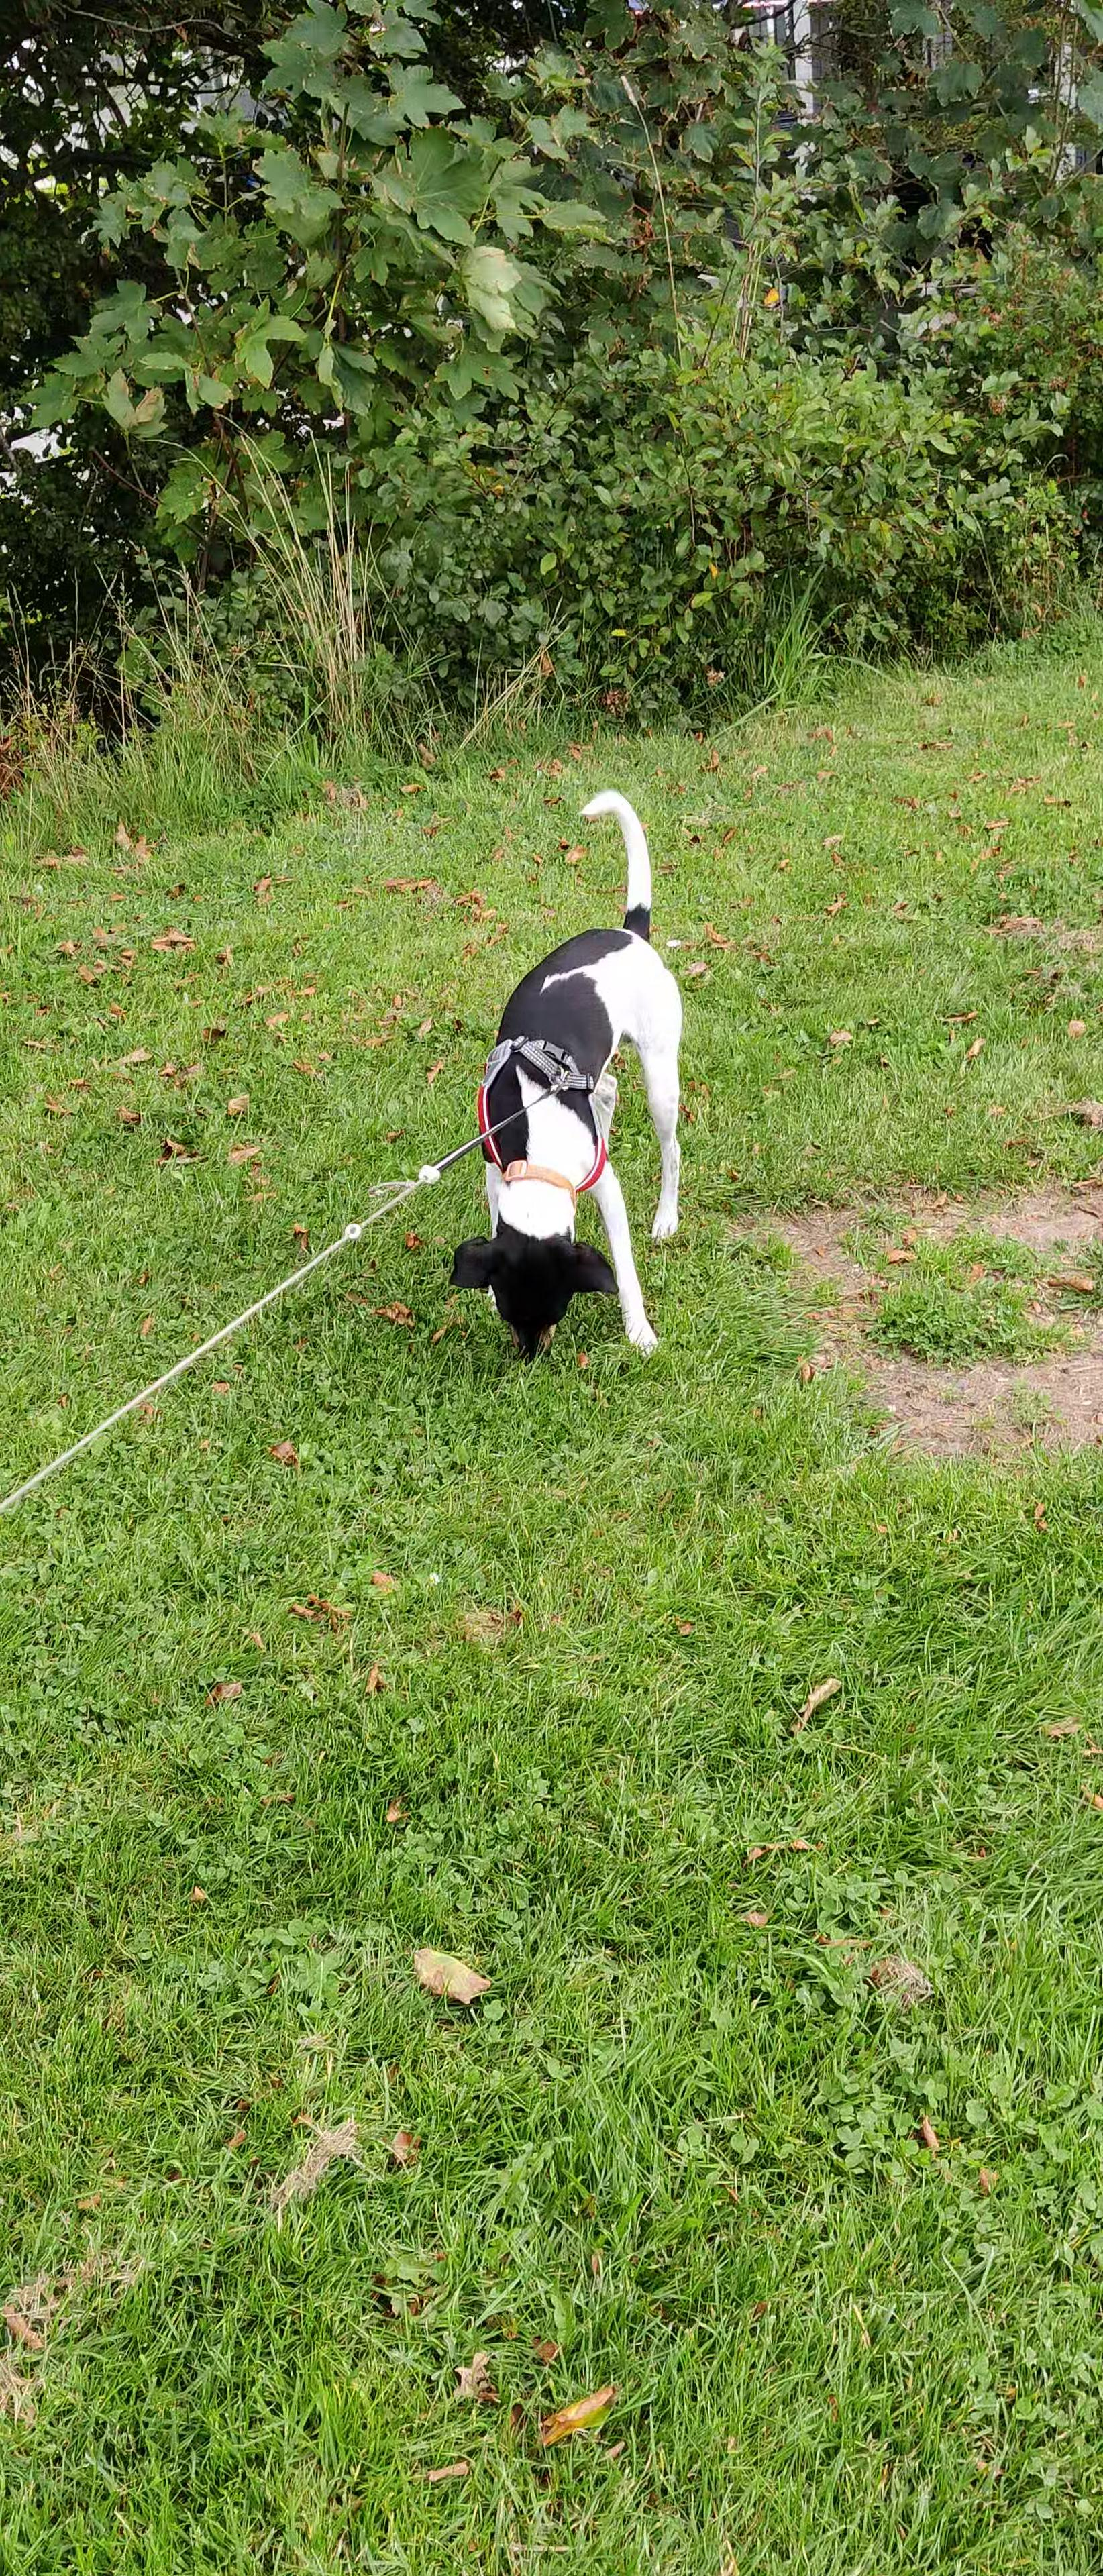Dog: (445, 779, 702, 1370)
